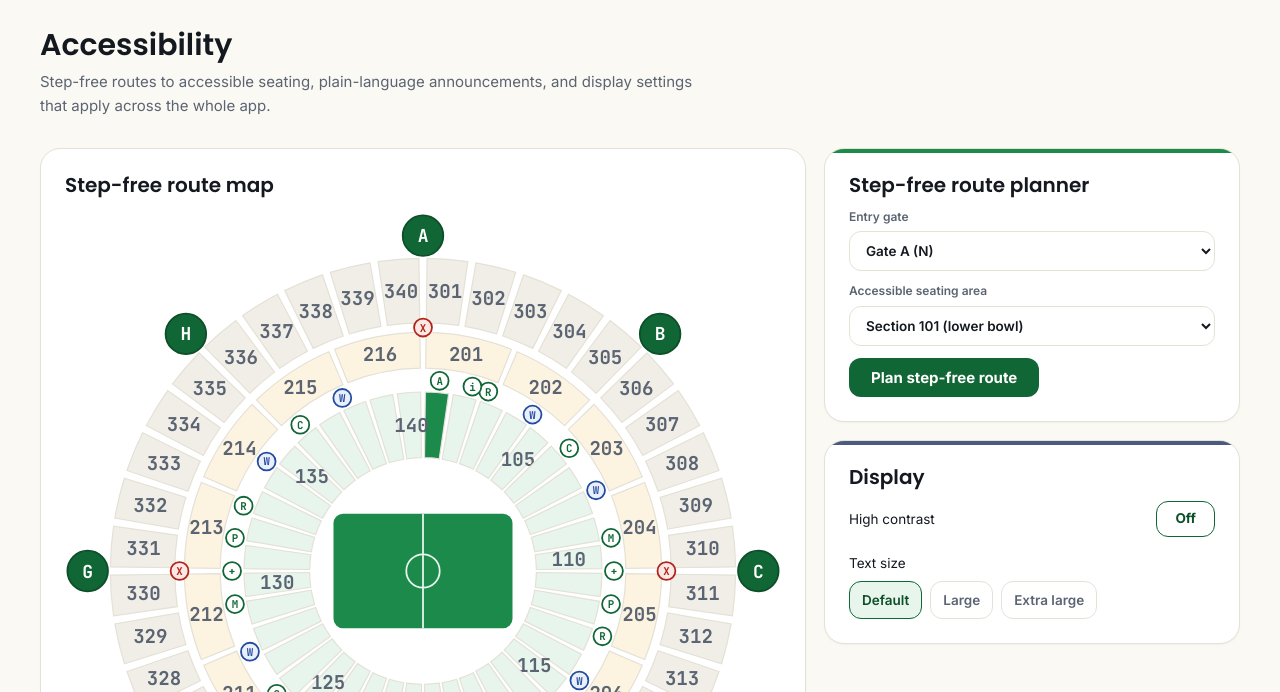
Test: AccessibilityScreen — step-free route planner › plans a step-free route and renders the guidance with accommodations
Select "Gate G (W)" in the dropdown labelled "Entry gate". click: (1032, 251)
box: x1=849 y1=231 x2=1215 y2=271
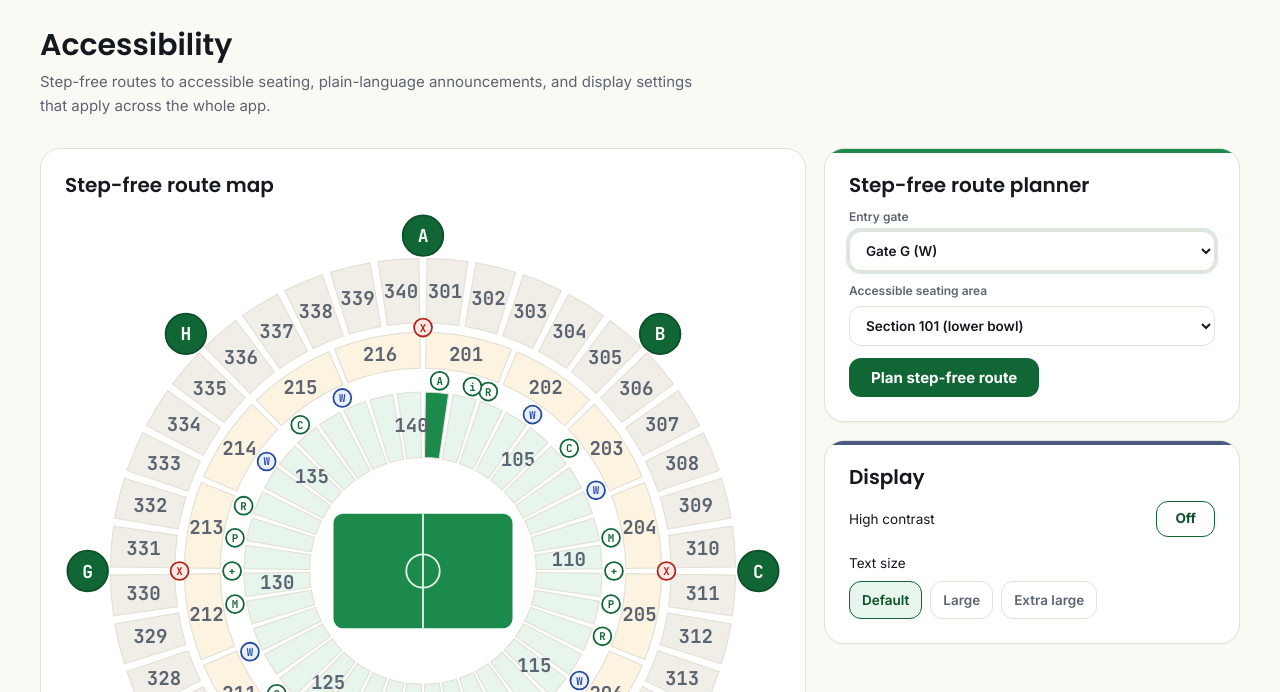
Select "Section 120 (lower bowl)" in the dropdown labelled "Accessible seating area". click: (1032, 326)
box: x1=849 y1=306 x2=1215 y2=346
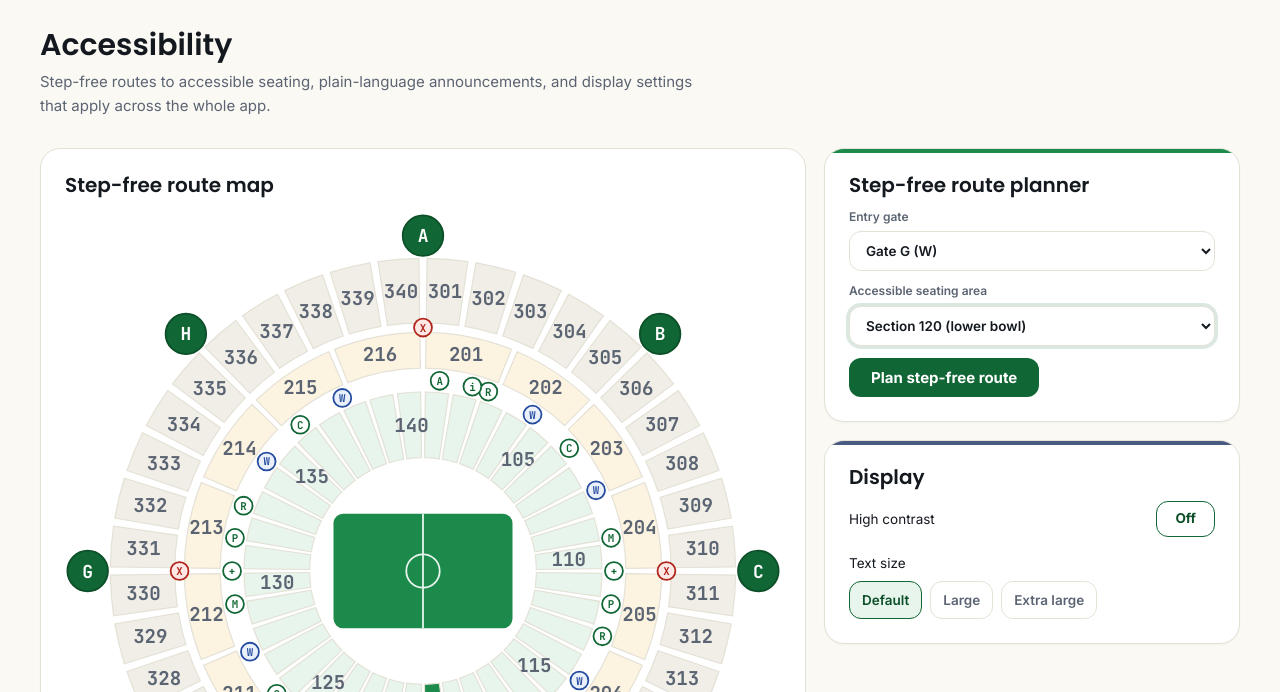
Click the button "Plan step-free route". click: (944, 378)
box: x1=849 y1=358 x2=1039 y2=397
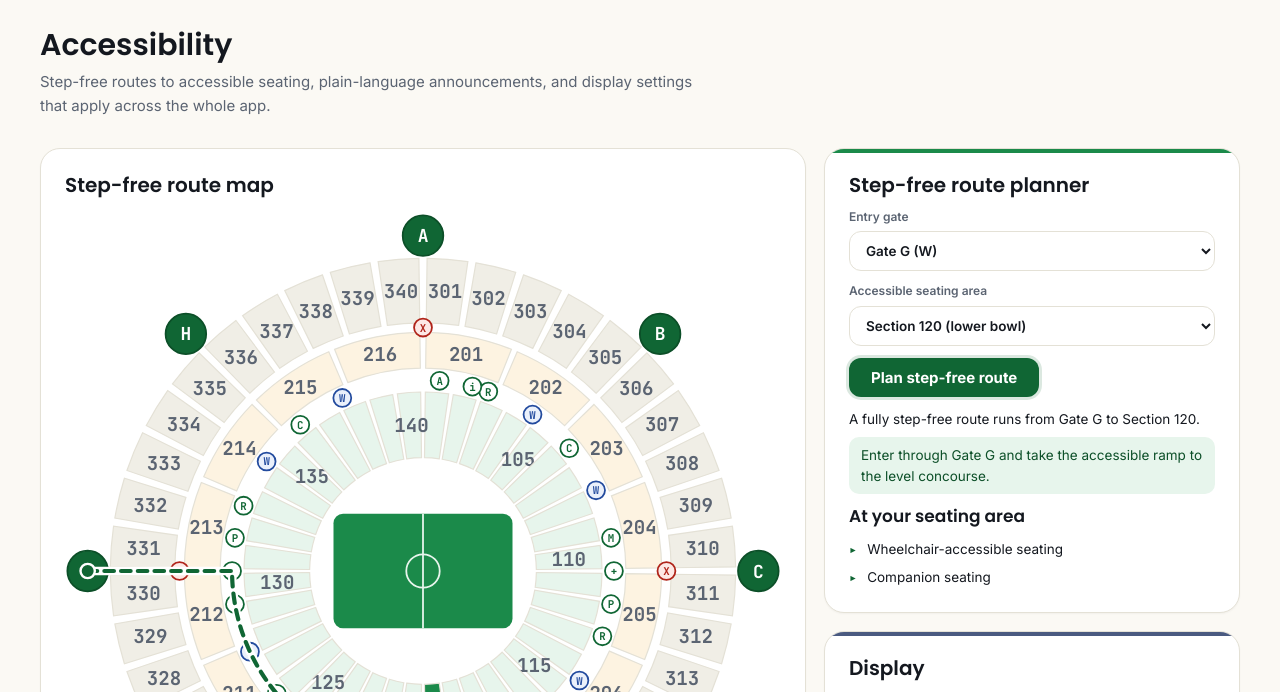
Expected: the text "A fully step-free route runs from Gate G to Section 120." is shown, x1=849 y1=409 x2=1215 y2=429
Expected: the text "Enter through Gate G and take the accessible ramp to the level concourse." is shown, x1=849 y1=437 x2=1215 y2=494
Expected: the list item "Wheelchair-accessible seating" is shown, x1=867 y1=541 x2=1063 y2=557
